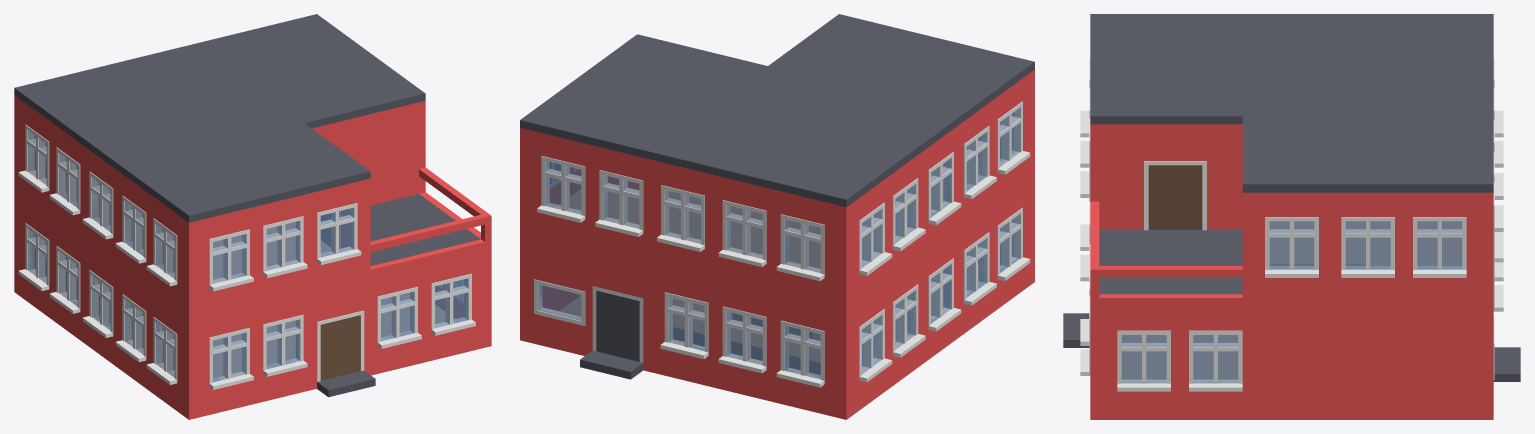
File: pho-nha-nen-5.glb
The picture shows the model from 3 angles, left to right: view 1: azimuth 30°, elevation 25°; view 2: azimuth 150°, elevation 25°; view 3: azimuth 270°, elevation 25°; orthographic projection. The views are drawn at different scales.
Visible parts, largest first — view 1: pho-nha-nen-5; view 2: pho-nha-nen-5; view 3: pho-nha-nen-5.
Part boxes in pixels (x1,y1,x2,y2): pho-nha-nen-5: (14, 14, 491, 419); pho-nha-nen-5: (520, 14, 1034, 419); pho-nha-nen-5: (1063, 14, 1520, 419).
Size of the model in its own units: 47.2 by 29 by 51.
